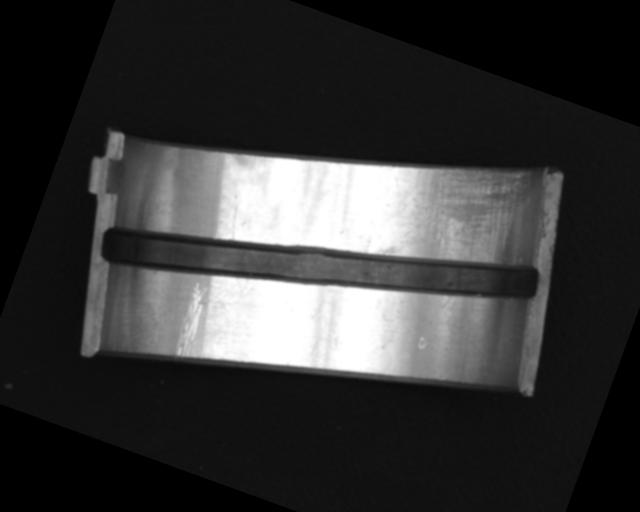bruise: (414, 335, 428, 351)
gap: (93, 124, 543, 402)
nick: (167, 278, 214, 362), (217, 192, 249, 242)
scratch: (372, 129, 545, 300)
